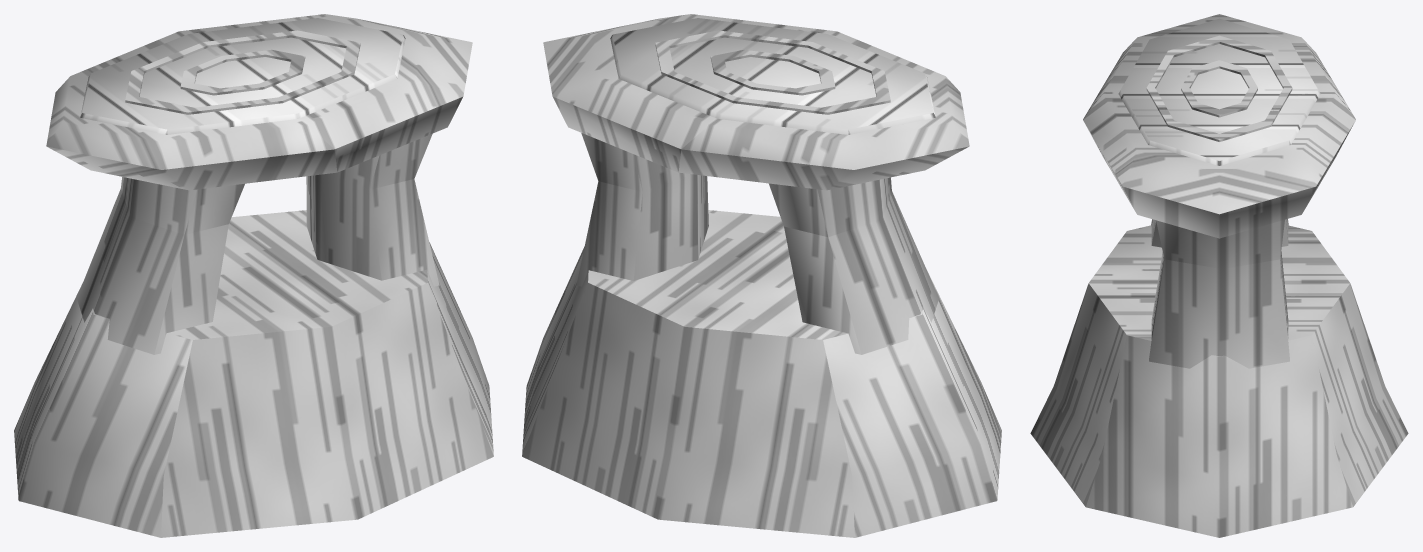
Rendered from nature_shrine_small_wood.obj.
3 renders of one model, left to right at view 1: azimuth 30°, elevation 25°; view 2: azimuth 150°, elevation 25°; view 3: azimuth 270°, elevation 25°, orthographic. The views are drawn at different scales.
Visible parts, largest first — view 1: source_component_000, source_component_003, source_component_004, source_component_001, source_component_002, source_component_006, source_component_005; view 2: source_component_000, source_component_003, source_component_004, source_component_001, source_component_002, source_component_006, source_component_005; view 3: source_component_000, source_component_003, source_component_002, source_component_004, source_component_006, source_component_005.
Part boxes in pixels (box(x1,y1,x2,y2)): source_component_000: box(14, 210, 493, 537); source_component_003: box(46, 14, 472, 190); source_component_004: box(80, 18, 405, 134); source_component_001: box(76, 177, 244, 354); source_component_002: box(306, 133, 439, 286); source_component_006: box(125, 30, 360, 114); source_component_005: box(180, 49, 305, 95); source_component_000: box(522, 210, 1001, 537); source_component_003: box(543, 14, 969, 190); source_component_004: box(610, 18, 935, 134); source_component_001: box(768, 177, 939, 354); source_component_002: box(576, 133, 708, 286); source_component_006: box(655, 30, 890, 114); source_component_005: box(710, 49, 835, 95); source_component_000: box(1030, 225, 1408, 537); source_component_003: box(1083, 14, 1355, 238); source_component_002: box(1149, 219, 1289, 368); source_component_004: box(1118, 18, 1320, 165); source_component_006: box(1146, 35, 1292, 141); source_component_005: box(1181, 60, 1257, 117).
Size of the model in its own units: 1.7 by 1.29 by 1.3.
